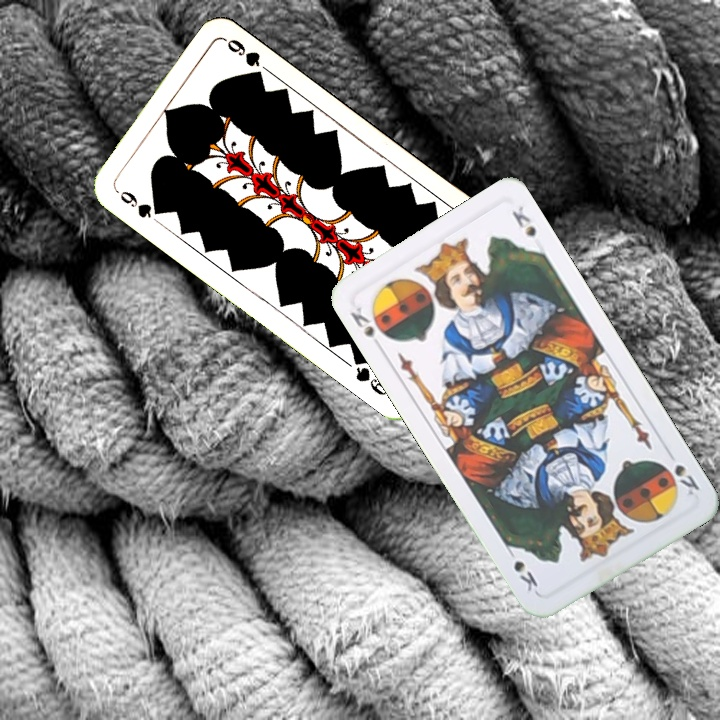G9: (110, 185, 167, 221)
SK: (346, 302, 393, 352), (670, 460, 702, 498)
